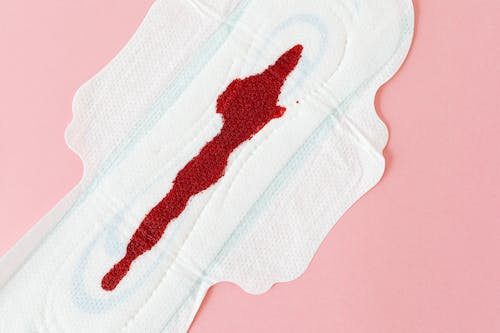blood: (98, 41, 305, 293)
